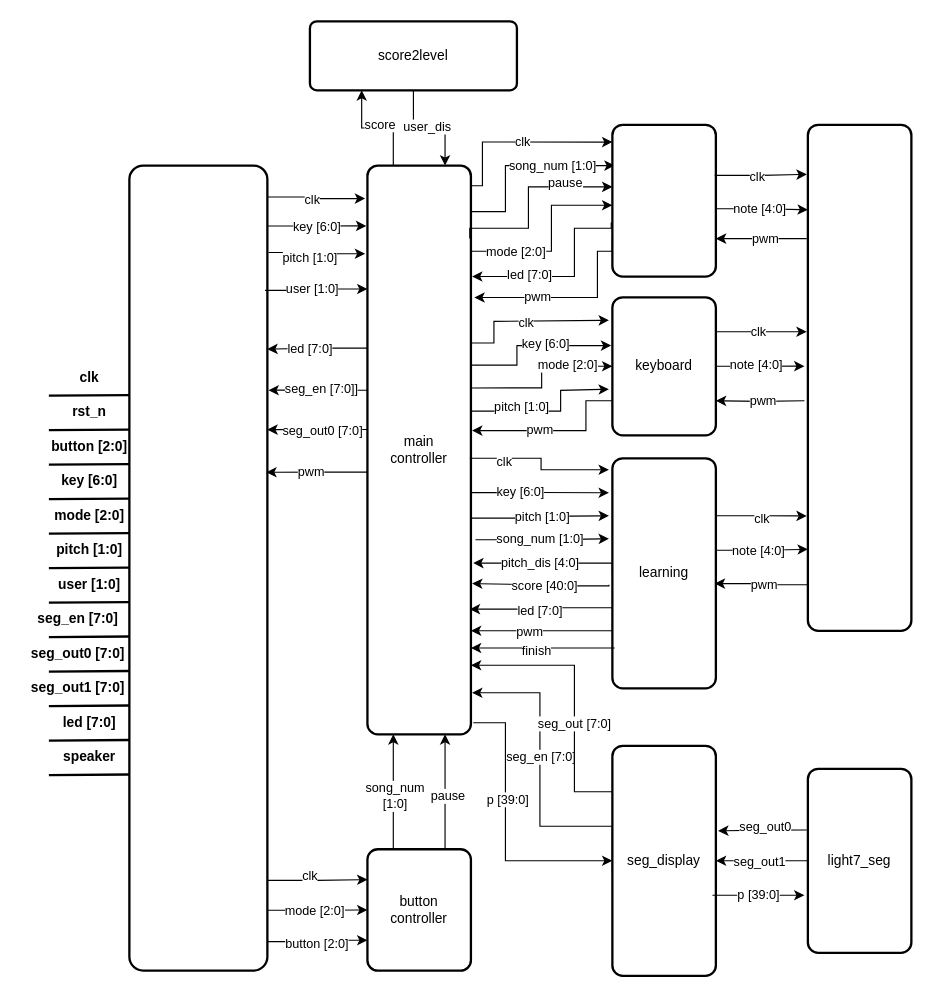
This 932x996 diagram has some shape labels left out. The centre of each missing label's shape, as x and y in pixels:
"auto_player" goes at point (663, 200).
"buzzer" goes at point (859, 377).
"main" goes at point (198, 567).
